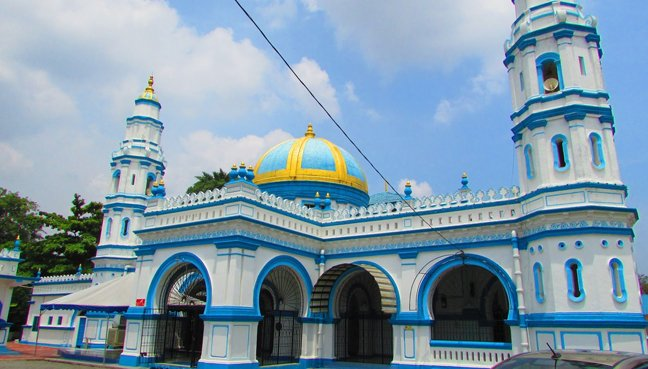Mosque: (64, 30, 611, 340)
